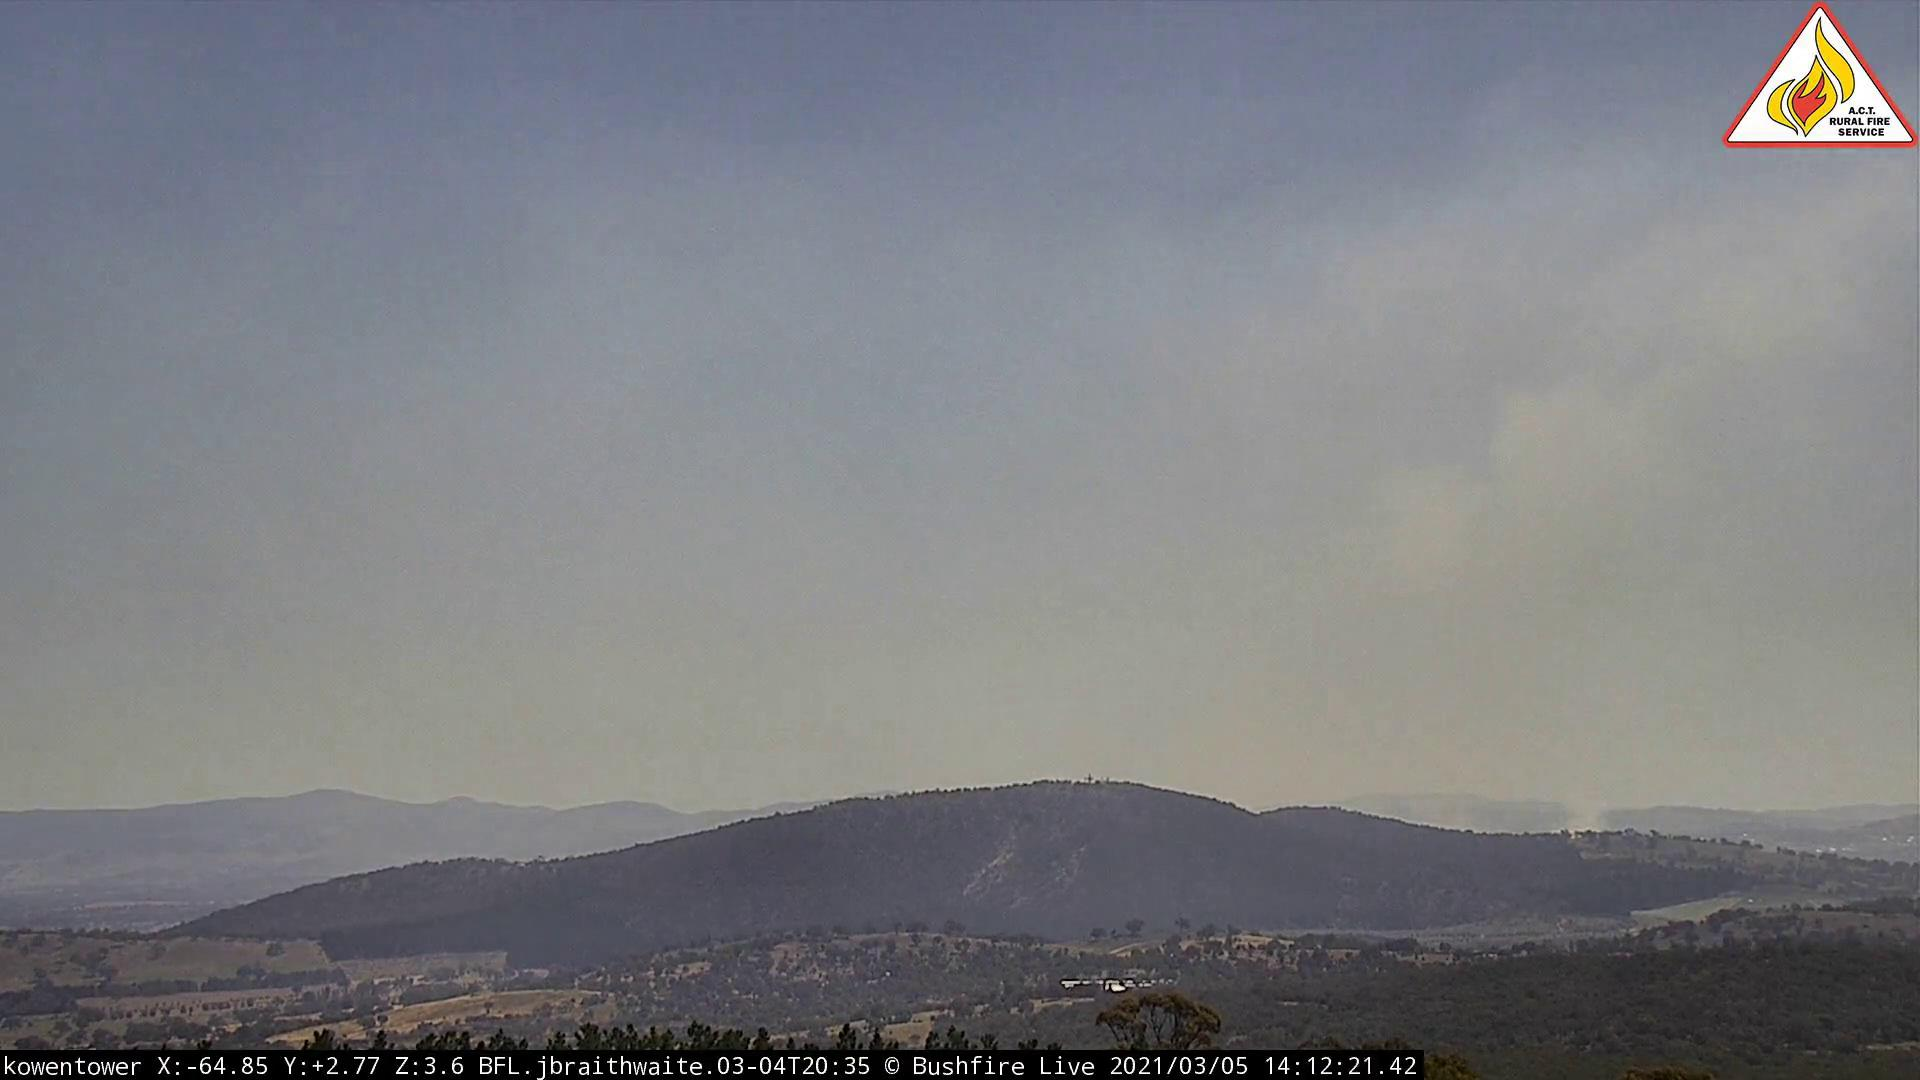Smoke: (1222, 334, 1735, 843)
